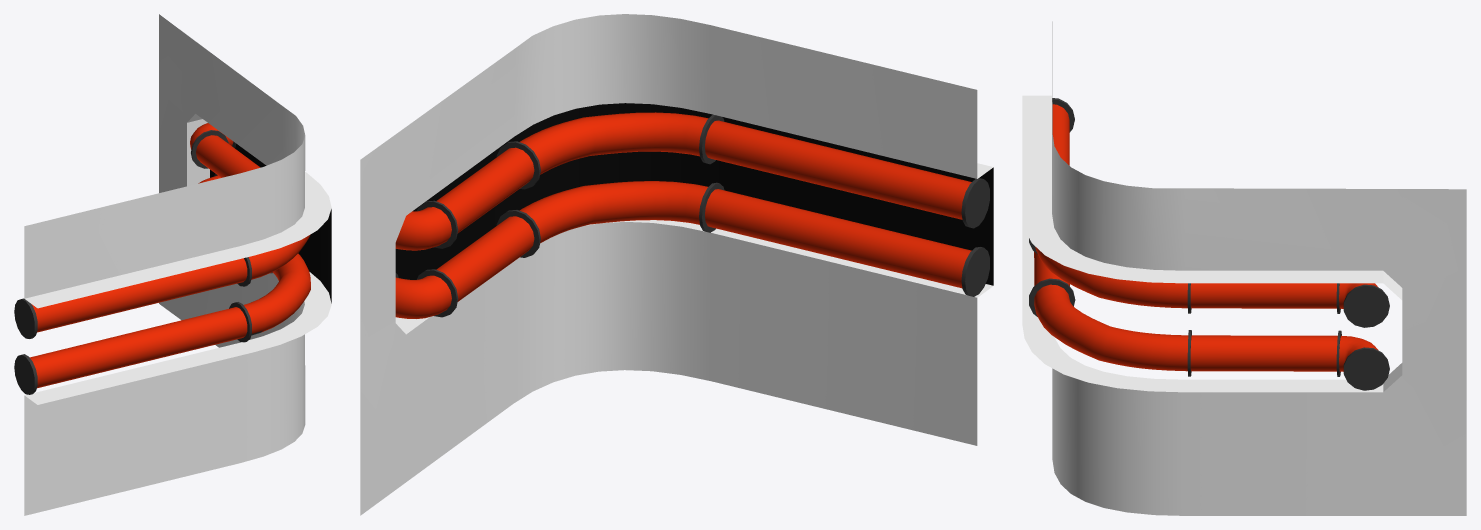
The model's file is S_assete_basement_wall_soft_inside_corner_midel_3.fbx.
3 views of the same model, side by side, from view 1: azimuth 30°, elevation 25°; view 2: azimuth 150°, elevation 25°; view 3: azimuth 270°, elevation 25° (orthographic). The views are drawn at different scales.
Visible parts, largest first — view 1: basement_wall_soft_inside_corner_midel_3; view 2: basement_wall_soft_inside_corner_midel_3; view 3: basement_wall_soft_inside_corner_midel_3.
Part boxes in pixels (x1=…): basement_wall_soft_inside_corner_midel_3: x1=14, y1=14, x2=331, y2=515; basement_wall_soft_inside_corner_midel_3: x1=360, y1=14, x2=993, y2=515; basement_wall_soft_inside_corner_midel_3: x1=1022, y1=21, x2=1466, y2=515.
Size of the model in its own units: 248 by 200 by 247.
